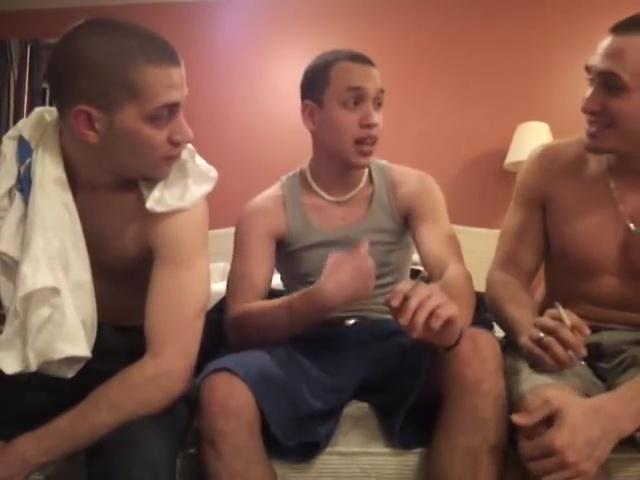cigarette: (399, 264, 434, 298), (553, 299, 573, 329)
